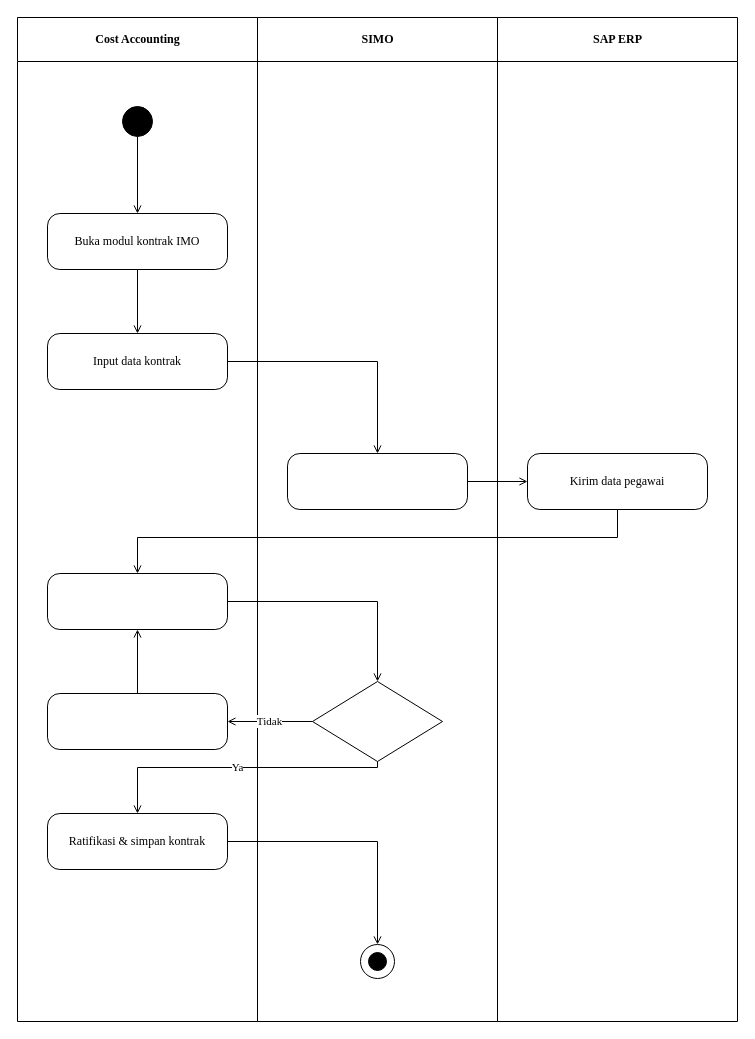
Some shapes in this 755 by 1039 pixel diagram are drawn without their labels. The shapes that lost their labels are listed below. From the top down, each one's centre as x and y in pixels, then its label:
(x=377, y=481): Minta data pegawai infrastruktur
(x=137, y=601): Sesuaikan nilai & klausul
(x=137, y=721): Revisi kontrak
(x=377, y=721): Disepakati?
